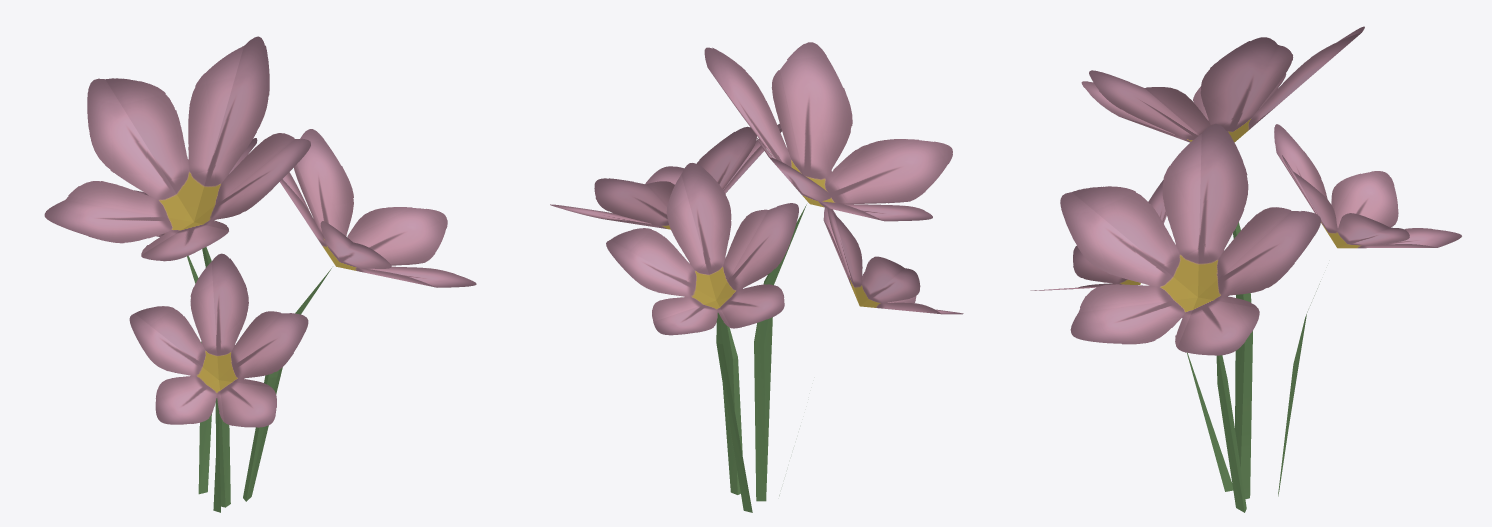
The model's file is Flower_4_Clump.glb.
The picture shows the model from 3 angles, left to right: view 1: azimuth 30°, elevation 25°; view 2: azimuth 150°, elevation 25°; view 3: azimuth 270°, elevation 25°; orthographic projection. The views are drawn at different scales.
Size of the model in its own units: 0.568 by 0.6011 by 0.498.
Materials: 1 (1 with a texture image).
